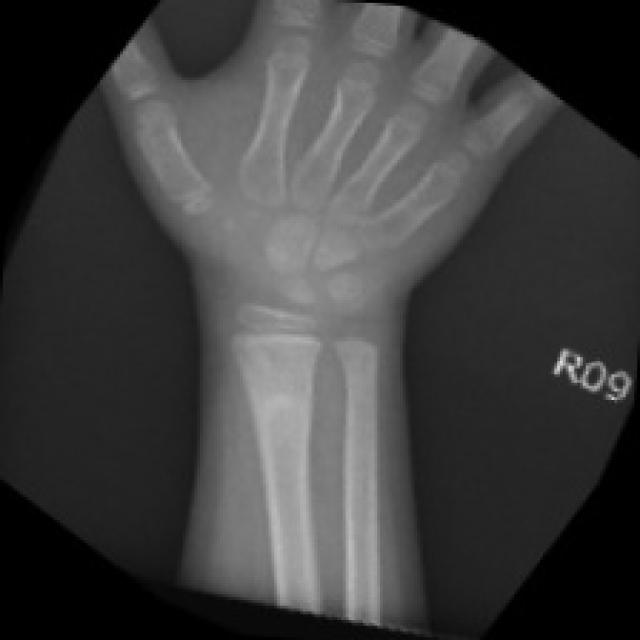fracture: (322, 298, 419, 418)
